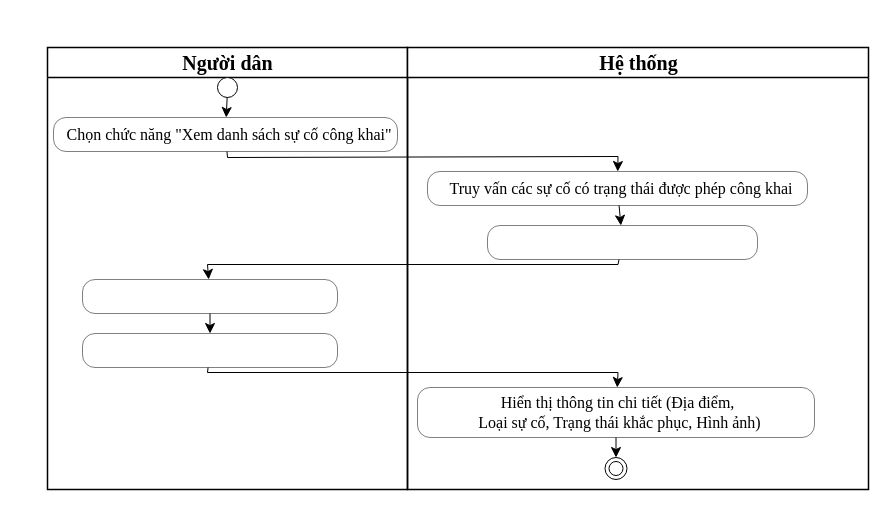
This 887x508 diagram has some shape labels left out. Each missing label, with the centre of its shape:
"Hiển thị danh sách/bản đồ các sự cố" belongs at pixel 622 242.
"Lọc theo khu vực (tuỳ chọn)" belongs at pixel 209 296.
"Nhấn chọn xem chi tiết một sự cố" belongs at pixel 209 350.
